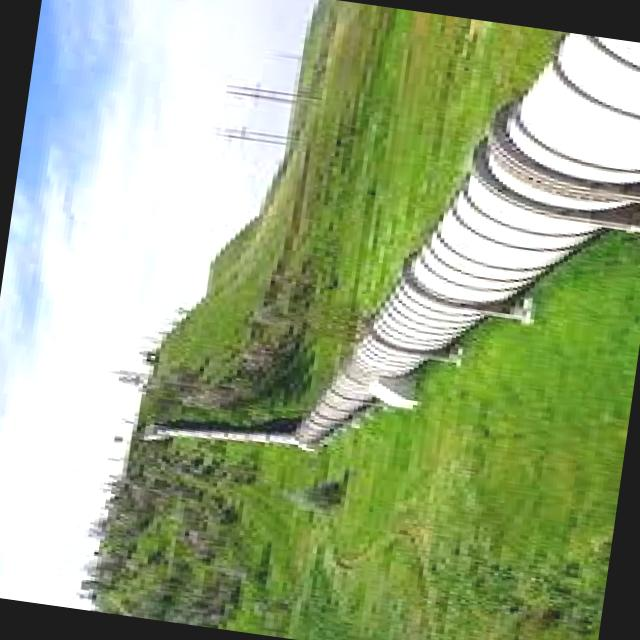gas: (163, 32, 640, 446)
